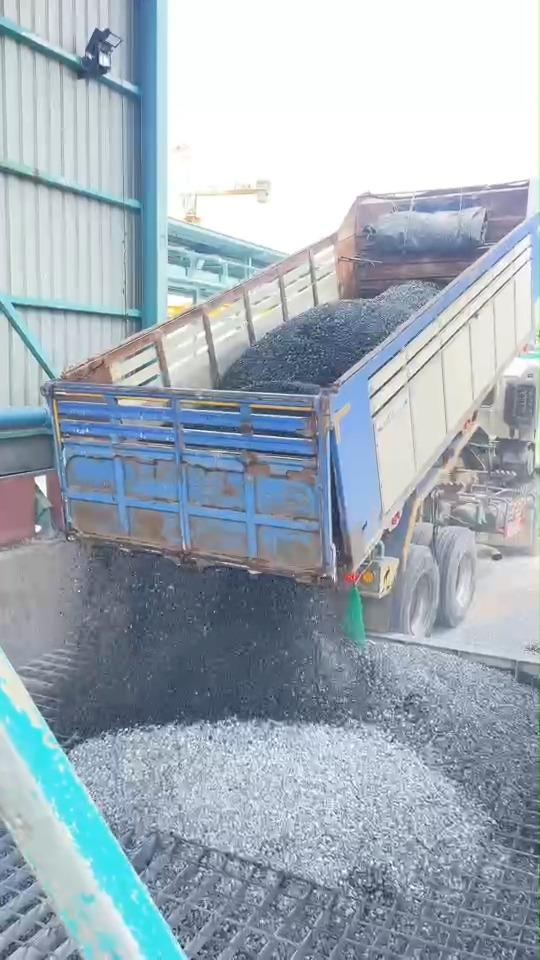gravel: (63, 551, 534, 815), (71, 721, 486, 893), (220, 281, 437, 392), (358, 879, 370, 894), (375, 879, 384, 889), (96, 709, 102, 715), (135, 591, 138, 596)
